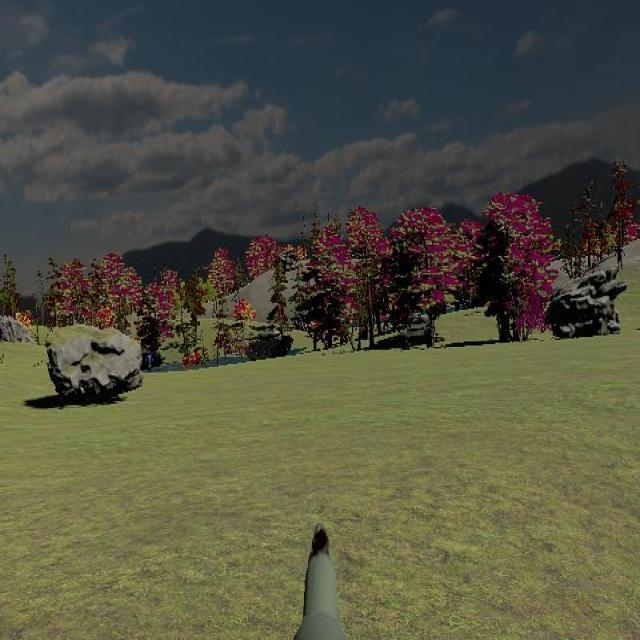Tank: (235, 325, 294, 360), (400, 310, 435, 350)
